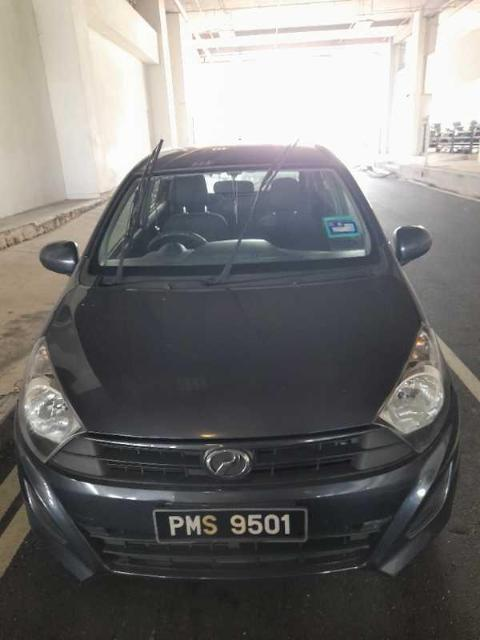License_Plate: (153, 506, 310, 546)
car: (13, 140, 461, 586)
